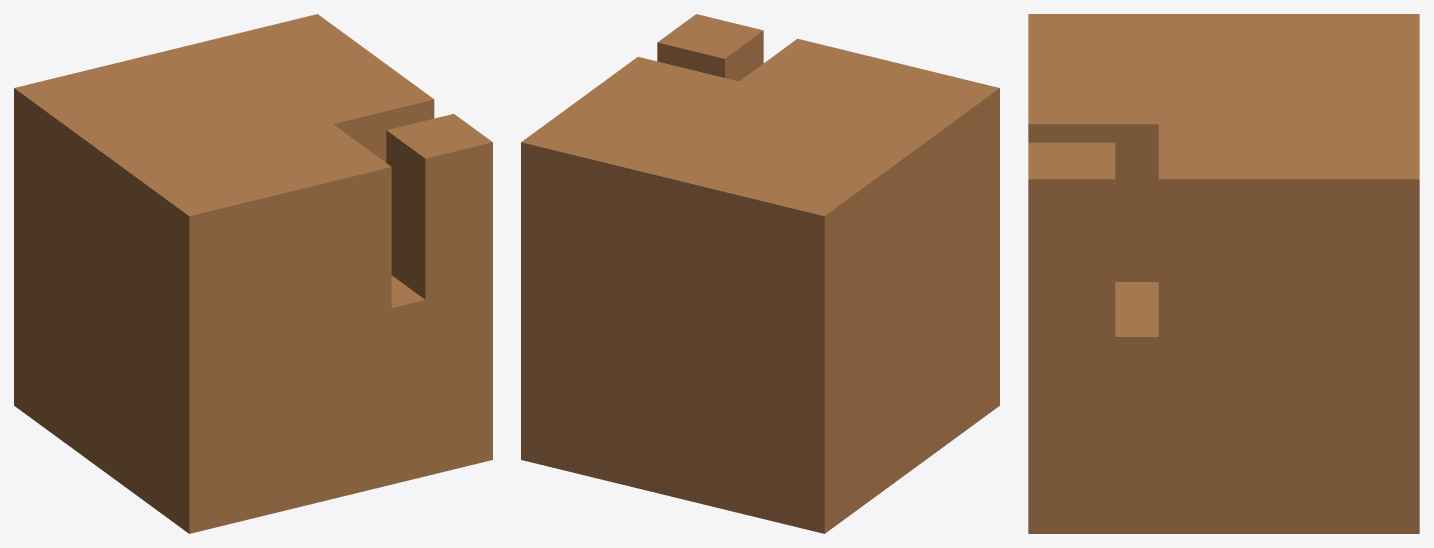
Rendered from Thin_Corner_Sharp_Model.fbx.
3 views of the same model, side by side, from view 1: azimuth 30°, elevation 25°; view 2: azimuth 150°, elevation 25°; view 3: azimuth 270°, elevation 25° (orthographic). The views are drawn at different scales.
Parts seen in each view (by area): view 1: Cube; view 2: Cube; view 3: Cube.
Part boxes in pixels (bbox=[...]): Cube: bbox=[14, 14, 492, 533]; Cube: bbox=[521, 14, 999, 533]; Cube: bbox=[1028, 14, 1419, 533].
Size of the model in its own units: 100 by 100 by 100.
